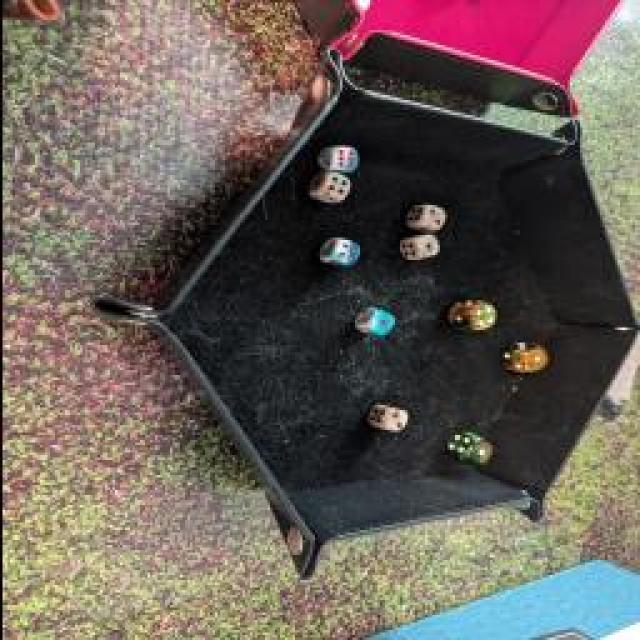dice_1: (443, 429, 495, 466), (501, 340, 551, 375), (395, 232, 447, 262), (354, 306, 398, 336)
dice_2: (362, 402, 410, 436), (402, 203, 448, 235)
dice_4: (448, 298, 498, 334), (316, 234, 364, 271), (308, 170, 350, 205)
dice_6: (316, 144, 359, 174)
